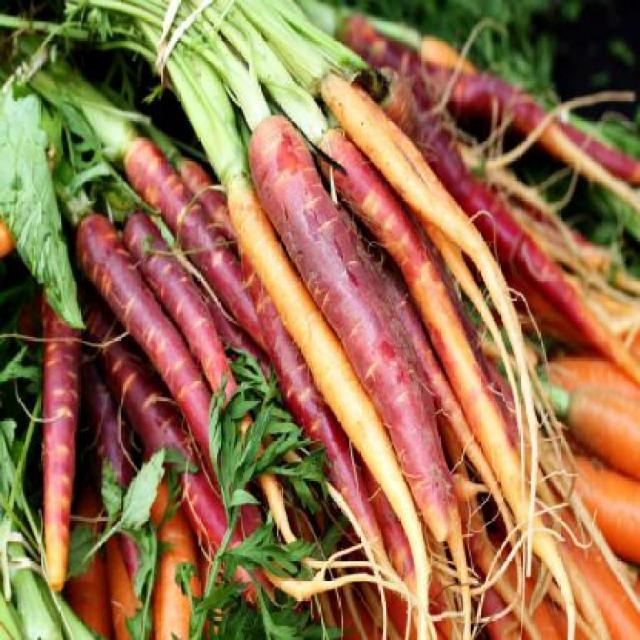Carrot: (222, 173, 436, 639), (502, 376, 638, 482), (546, 441, 640, 564), (543, 360, 640, 402)
